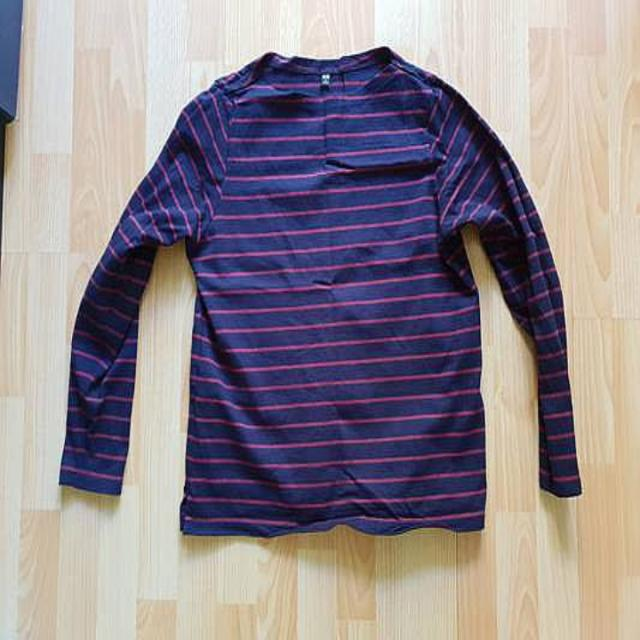SHIRT: (50, 30, 594, 557)
